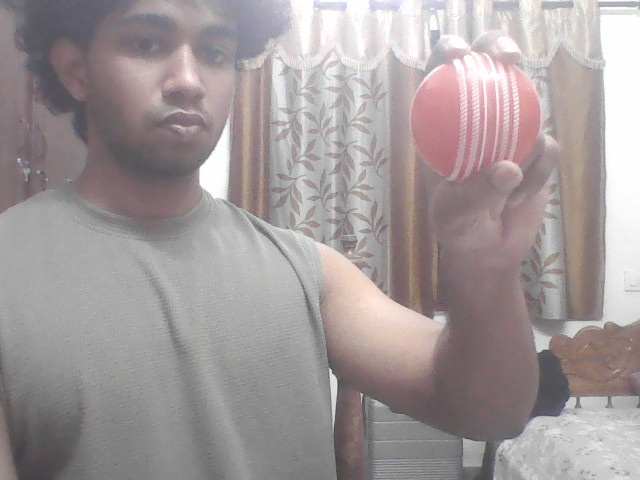cricket_ball: (405, 53, 547, 174)
